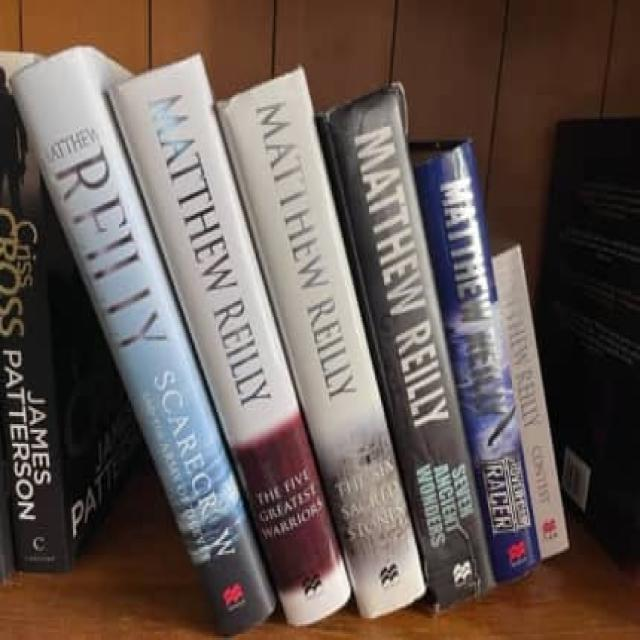Books: (12, 47, 272, 631), (114, 55, 350, 624), (218, 67, 425, 617), (319, 88, 492, 604), (0, 53, 141, 570), (414, 141, 540, 580), (542, 119, 640, 557), (492, 245, 569, 558)
